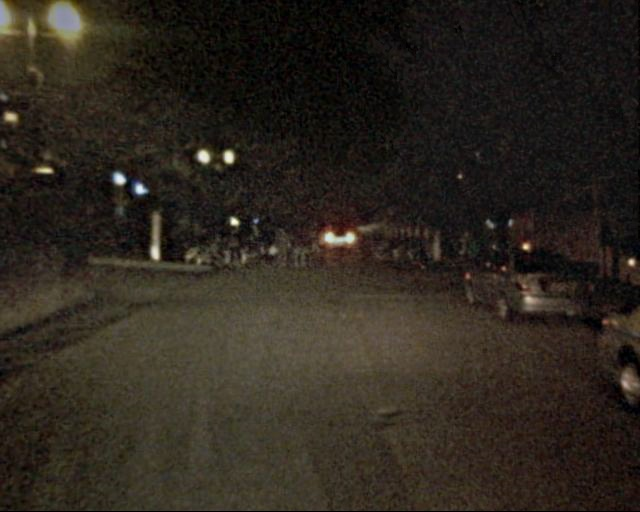person: (225, 223, 246, 274), (273, 222, 294, 268), (291, 224, 311, 272), (252, 222, 272, 264)
